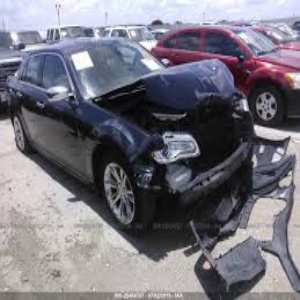bonnet: (137, 58, 236, 116)
